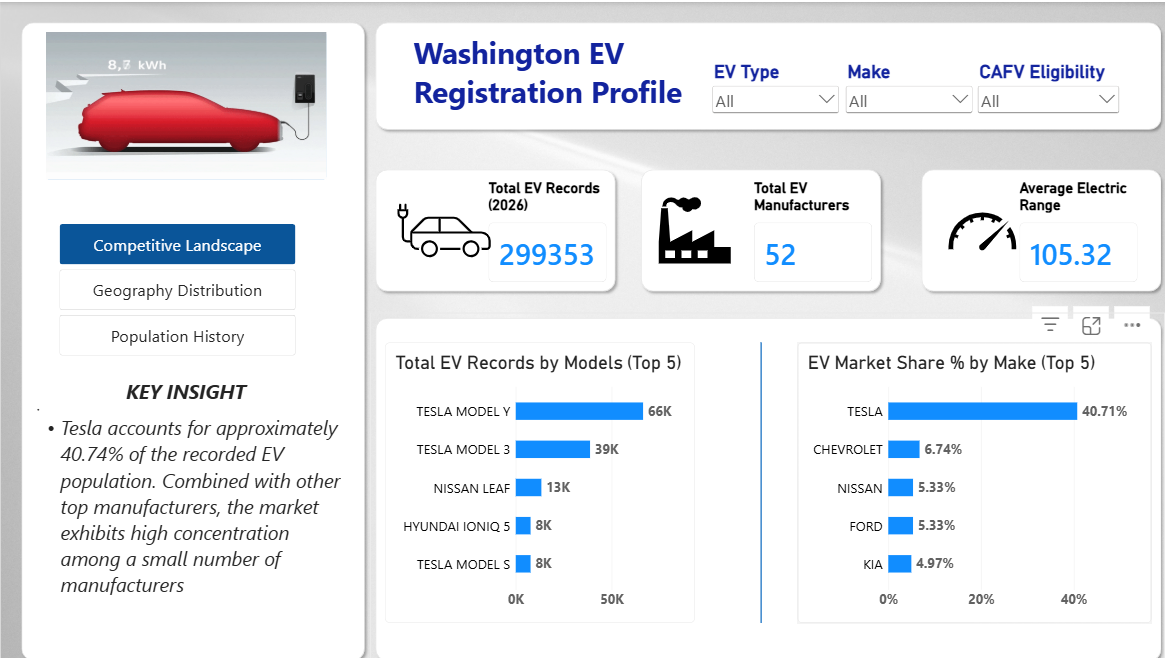

The dashboard page shown, as its layout file describes it:
{"tool":"powerbi","page":{"name":"Competitive Landscape","canvas":[1920,1080],"ordinal":0},"visuals":[{"type":"shape","box":[600,24,1296,192],"z":0},{"type":"textbox","box":[672,48,480,144],"z":1000},{"type":"slicer","fields":{"Values":["Electric Vehicle Population Data.Electric Vehicle Type"]},"box":[1152,96,216,120],"z":2000},{"type":"slicer","fields":{"Values":["Electric Vehicle Population Data.Make"]},"box":[1368,96,216,120],"z":3000},{"type":"slicer","fields":{"Values":["Electric Vehicle Population Data.Clean Alternative Fuel Vehicle (CAFV) Eligibility"]},"box":[1584,96,240,120],"z":4000},{"type":"shape","box":[24,24,576,1056],"z":5000},{"type":"actionButton","box":[72,48,456,240],"z":6000},{"type":"shape","box":[600,264,408,216],"z":7000},{"type":"cardVisual","title":"Total EV Records (2026)","fields":{"Data":["_popmeasures.Total EV Records"]},"box":[792,288,192,168],"z":8000},{"type":"shape","box":[1032,264,408,216],"z":9000},{"type":"cardVisual","title":"Total EV Manufacturers","fields":{"Data":["_popmeasures.Total Manufacturers"]},"box":[1224,288,192,168],"z":10000},{"type":"shape","box":[1488,264,408,216],"z":11000},{"type":"cardVisual","title":"Average Electric Range","fields":{"Data":["_popmeasures.Average Electric Range"]},"box":[1656,288,192,168],"z":12000},{"type":"shape","box":[600,504,1296,576],"z":13000,"group":"g1"},{"type":"textbox","box":[48,576,504,480],"z":13000},{"type":"group","id":"g1","title":"Group 1","box":[600,504,1296,576],"z":14000},{"type":"barChart","title":"EV Market Share % by Make (Top 5)","fields":{"Category":["Electric Vehicle Population Data.Make"],"Y":["_popmeasures.EV Market Share %"]},"box":[1296,552,576,456],"z":14000,"group":"g1"},{"type":"clusteredBarChart","title":"Total EV Records by Models (Top 5)","fields":{"Category":["Electric Vehicle Population Data.Vehicle Full Name"],"Y":["_popmeasures.Total EV Records"]},"box":[624,552,504,456],"z":14501,"group":"g1"},{"type":"pageNavigator","box":[96,360,384,216],"z":15000},{"type":"shape","box":[1200,552,72,456],"z":15002,"group":"g1"},{"type":"image","box":[624,288,192,168],"z":16000},{"type":"image","box":[1056,264,144,216],"z":17000},{"type":"image","box":[1488,312,216,120],"z":18000}]}

Visuals, with their boxes in screenshot pixels (x1, y1, x2, y2), scaled from the page's 1920x1080 canvas onto the 1165x658 screenshot:
shape: box(364, 15, 1150, 132)
textbox: box(408, 29, 699, 117)
slicer - Electric Vehicle Population Data.Electric Vehicle Type: box(699, 58, 830, 132)
slicer - Electric Vehicle Population Data.Make: box(830, 58, 961, 132)
slicer - Electric Vehicle Population Data.Clean Alternative Fuel Vehicle (CAFV) Eligibility: box(961, 58, 1107, 132)
shape: box(15, 15, 364, 657)
actionButton: box(44, 29, 320, 175)
shape: box(364, 161, 612, 292)
"Total EV Records (2026)" cardVisual: box(481, 175, 597, 278)
shape: box(626, 161, 874, 292)
"Total EV Manufacturers" cardVisual: box(743, 175, 859, 278)
shape: box(903, 161, 1150, 292)
"Average Electric Range" cardVisual: box(1005, 175, 1121, 278)
shape: box(364, 307, 1150, 657)
textbox: box(29, 351, 335, 643)
"Group 1" group: box(364, 307, 1150, 657)
"EV Market Share % by Make (Top 5)" barChart: box(786, 336, 1136, 614)
"Total EV Records by Models (Top 5)" clusteredBarChart: box(379, 336, 684, 614)
pageNavigator: box(58, 219, 291, 351)
shape: box(728, 336, 772, 614)
image: box(379, 175, 495, 278)
image: box(641, 161, 728, 292)
image: box(903, 190, 1034, 263)
